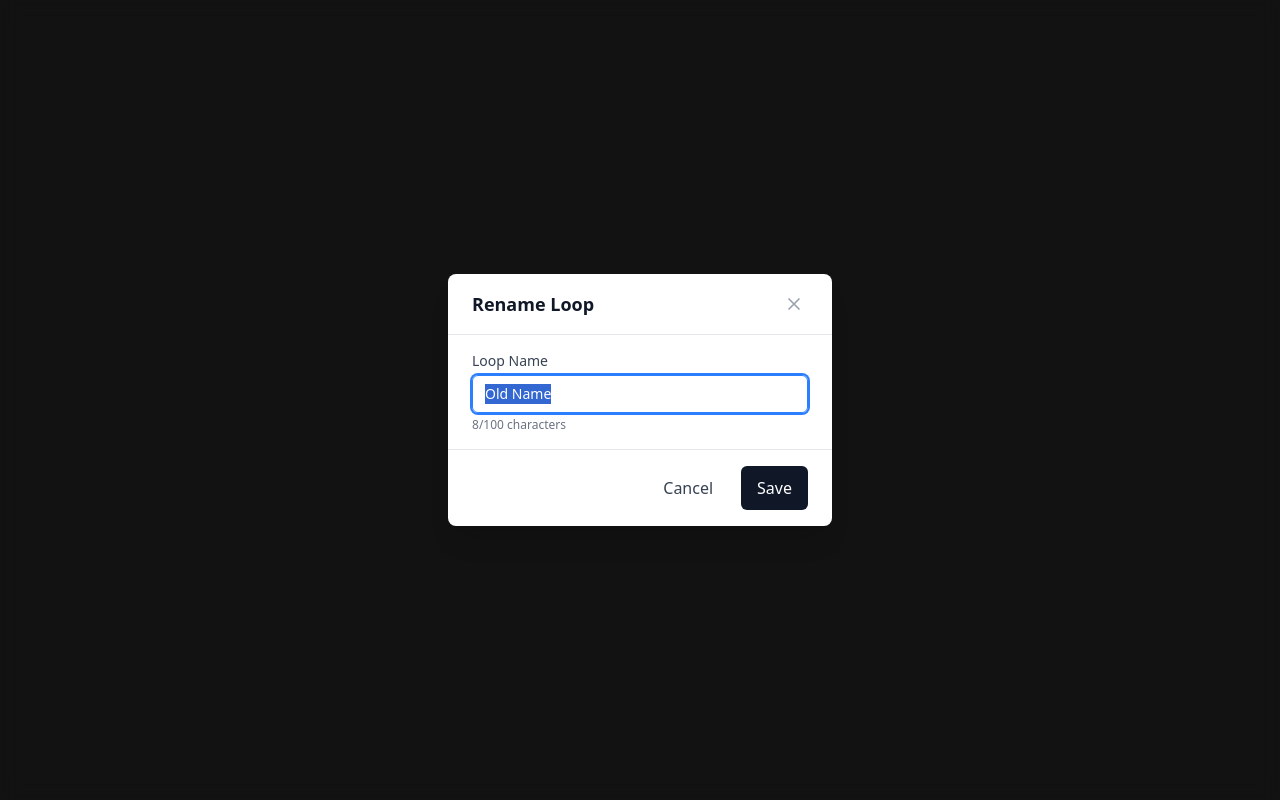
Test: RenameLoopModal › submission › shows error message on rename failure
Replace the text in the field labelled "Loop Name" with "New Name" at (640,394), box [472,375,808,413]
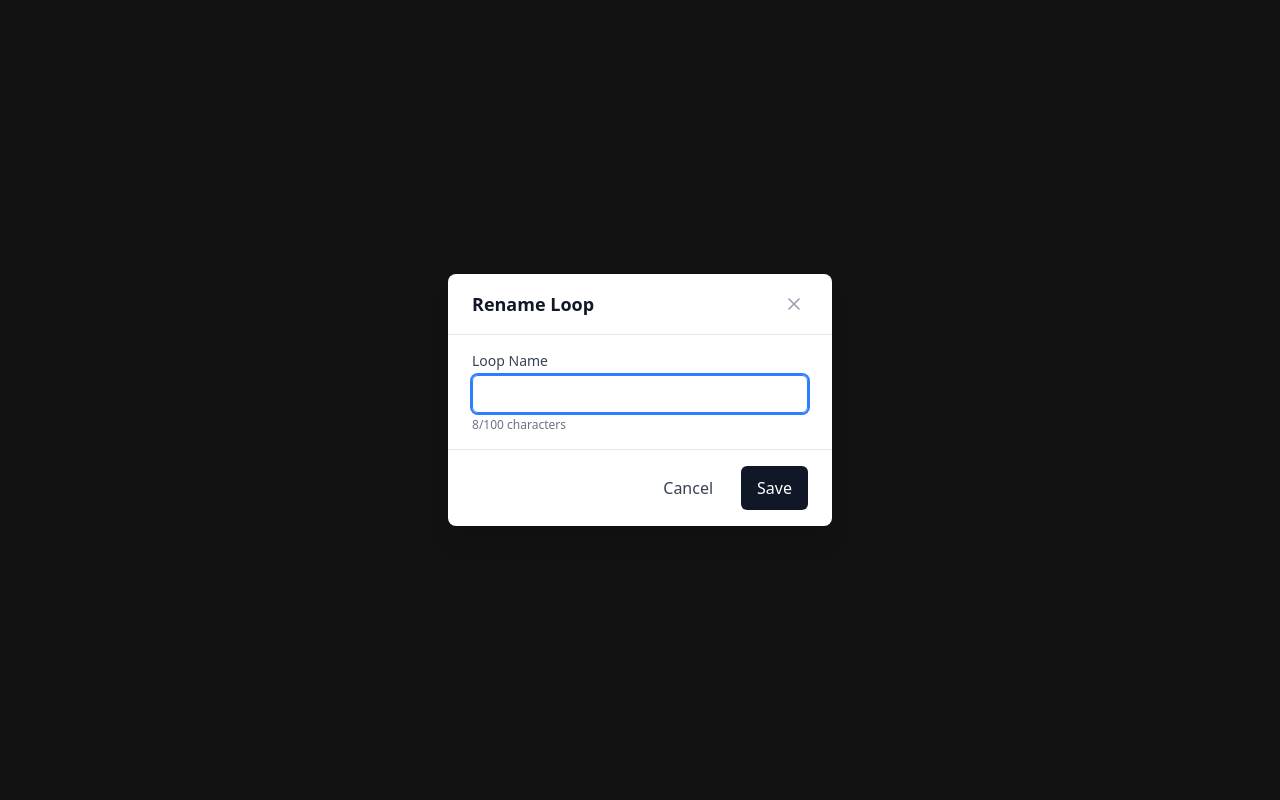
Click the button "Save".
click(775, 488)  # box [741,466,808,510]
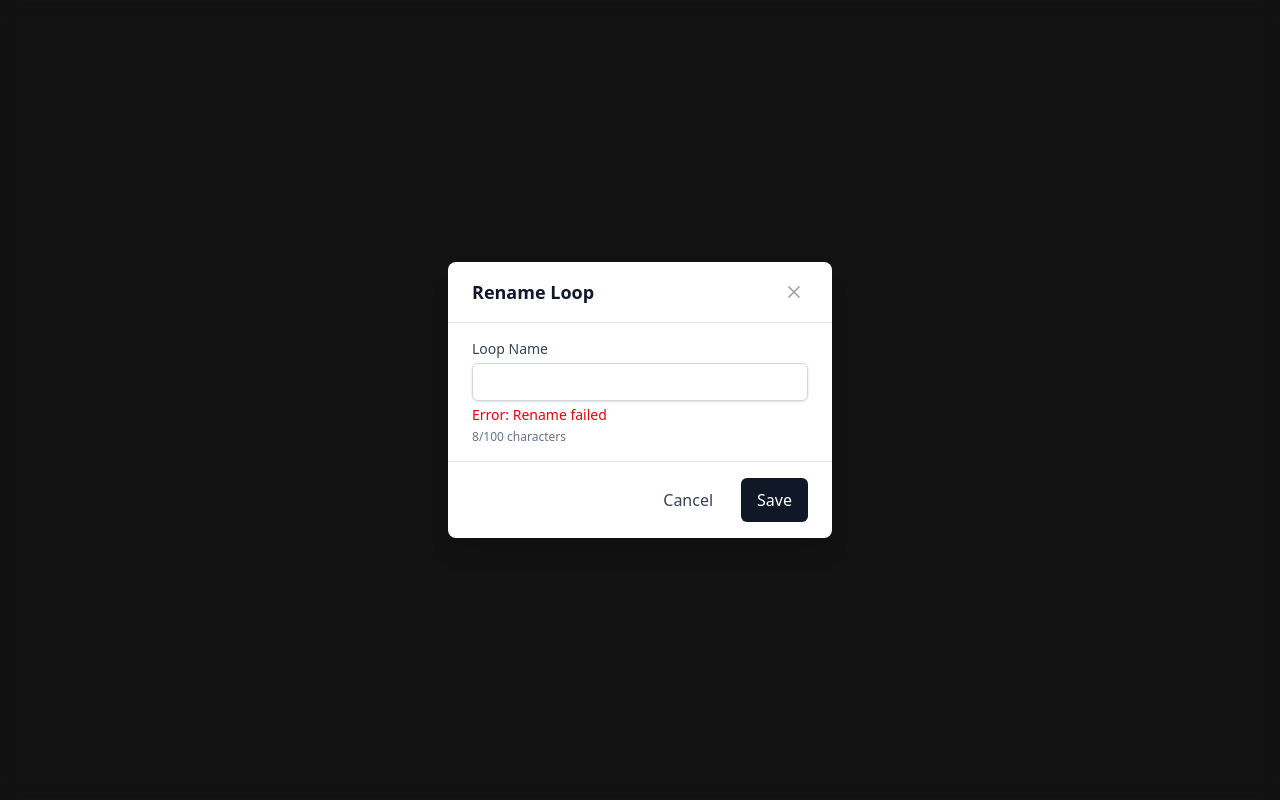
Result: the text "Error: Rename failed" is shown at [472,405,607,424]
